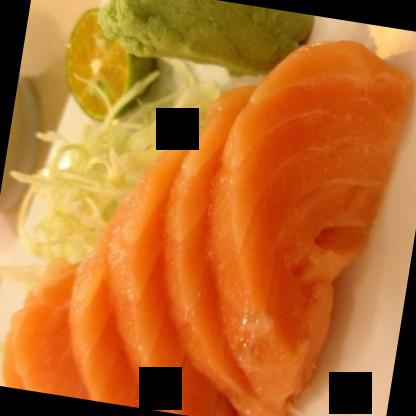salmon: (177, 25, 415, 415), (132, 76, 365, 415), (79, 134, 280, 415)
